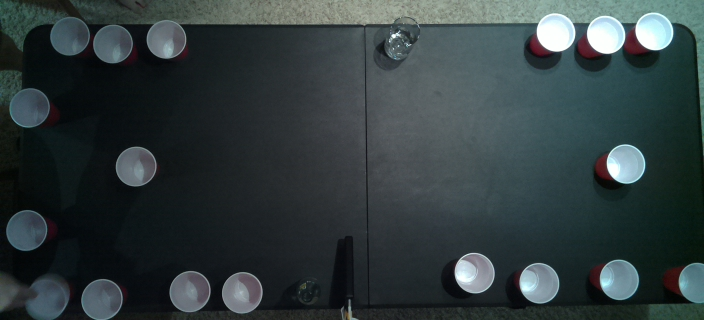active bp cup: (603, 143, 647, 185), (4, 211, 49, 251), (8, 87, 50, 129), (115, 146, 156, 186)
inactive bp cup: (451, 252, 495, 295), (167, 271, 211, 314), (594, 258, 639, 300), (23, 277, 67, 319), (221, 271, 263, 314), (80, 277, 123, 319), (518, 261, 560, 303), (584, 14, 626, 55), (49, 15, 90, 57), (92, 24, 133, 64), (145, 19, 186, 59), (534, 14, 577, 52), (633, 11, 674, 50), (677, 261, 703, 303)
